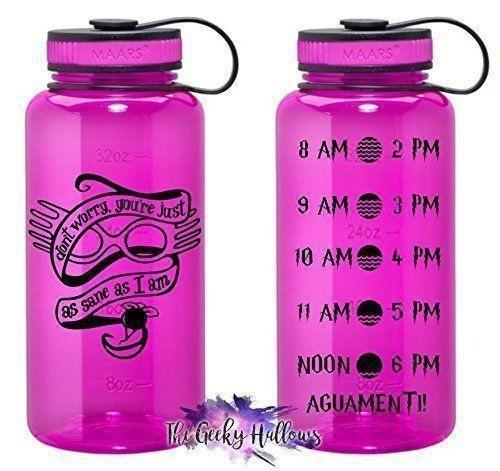gym bottle: (23, 14, 213, 453), (271, 16, 459, 454)
